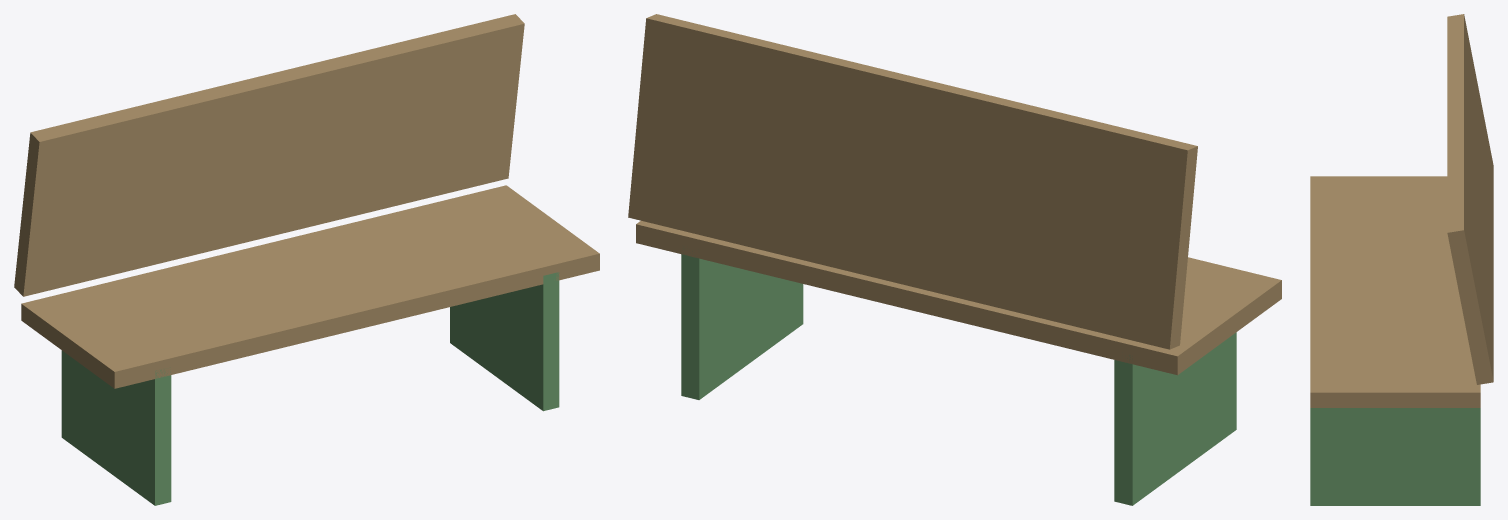
The model's file is env-mod-bench.glb.
The picture shows the model from 3 angles, left to right: view 1: azimuth 30°, elevation 25°; view 2: azimuth 150°, elevation 25°; view 3: azimuth 270°, elevation 25°; orthographic projection. The views are drawn at different scales.
Bounding box in the file's own units: 1.5 × 0.9505 × 0.538.
